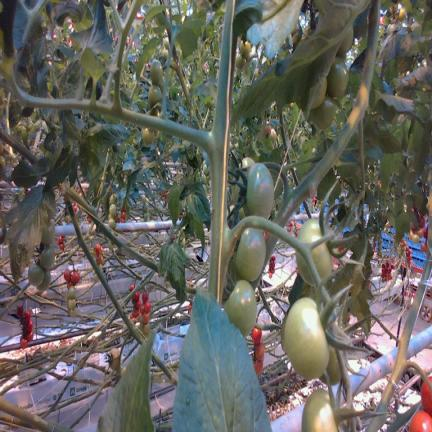6kp_peduncle: (208, 189, 298, 300), (262, 161, 309, 226), (389, 335, 432, 395), (256, 292, 272, 322), (62, 251, 74, 269)
6kp_petiole: (164, 87, 232, 204)
MainStem: (272, 2, 378, 227), (65, 198, 145, 345), (0, 307, 116, 395), (207, 0, 238, 303), (375, 254, 432, 413), (60, 183, 158, 272), (39, 311, 119, 419), (68, 371, 117, 428), (0, 397, 75, 432), (119, 270, 156, 306), (173, 42, 191, 108), (0, 282, 30, 319), (0, 412, 42, 432)
tomato: (282, 298, 329, 378), (296, 218, 332, 285), (224, 279, 256, 336), (235, 228, 266, 280), (246, 163, 274, 218), (302, 389, 337, 431), (228, 151, 254, 204), (327, 57, 348, 98), (310, 97, 335, 130), (308, 76, 327, 110), (326, 346, 341, 385), (337, 26, 353, 58), (410, 410, 432, 431), (421, 376, 432, 417), (228, 203, 245, 227), (40, 245, 55, 270), (28, 263, 44, 286), (41, 222, 55, 245), (148, 85, 162, 106), (150, 60, 162, 84), (37, 270, 51, 290), (150, 107, 159, 137), (142, 128, 155, 146), (240, 41, 251, 59), (255, 342, 265, 360), (235, 55, 246, 70), (387, 23, 401, 34), (252, 328, 261, 344), (0, 153, 6, 176), (254, 359, 263, 374), (141, 322, 150, 336), (262, 121, 270, 136), (398, 6, 406, 21), (72, 270, 80, 284), (270, 128, 276, 146), (64, 268, 71, 282), (68, 286, 76, 298), (109, 204, 116, 217), (144, 299, 151, 312), (68, 299, 76, 310), (132, 291, 140, 302), (67, 276, 74, 288), (24, 310, 31, 322), (17, 305, 23, 318), (70, 306, 77, 317), (20, 337, 27, 348), (109, 218, 116, 229), (142, 313, 149, 324), (163, 37, 169, 49), (162, 48, 168, 60), (27, 320, 33, 332), (136, 298, 142, 310), (203, 161, 208, 174), (412, 234, 419, 243), (27, 331, 33, 341), (201, 173, 206, 183), (418, 228, 423, 238), (420, 217, 425, 227), (421, 242, 426, 252), (109, 194, 114, 204), (140, 303, 144, 314), (135, 310, 140, 317)
